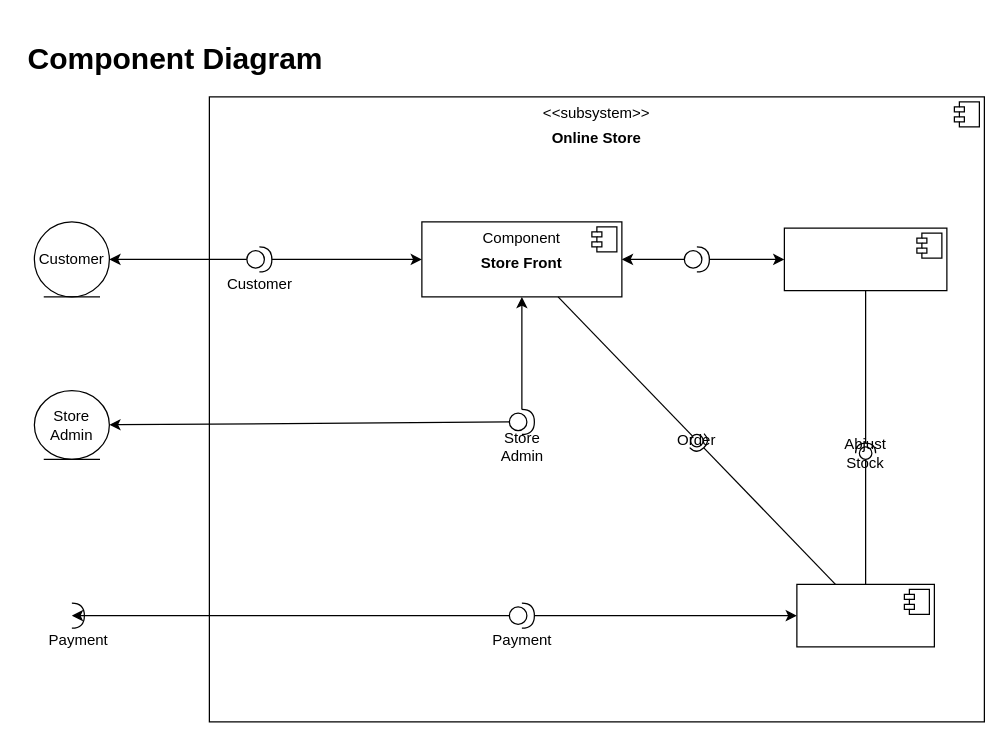
Some shapes in this 1006 by 744 pixel diagram are drawn without their labels. Each missing label, with the centre of its shape:
"Component Catalogue" goes at point (865, 259).
"Component Order System" goes at point (865, 615).
"SQL Column" goes at point (696, 259).
